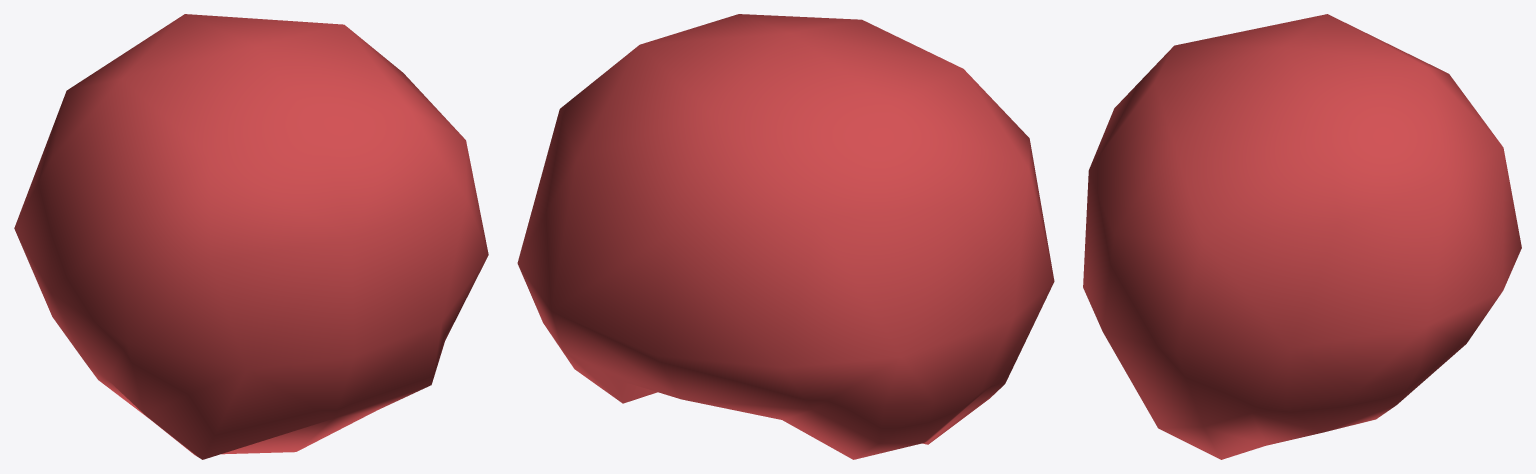
The model's file is afroC.glb.
3 views of the same model, side by side, from view 1: azimuth 30°, elevation 25°; view 2: azimuth 150°, elevation 25°; view 3: azimuth 270°, elevation 25° (orthographic). The views are drawn at different scales.
Visible parts, largest first — view 1: afroC; view 2: afroC; view 3: afroC.
Part boxes in pixels (bbox=[...]): afroC: bbox=[14, 14, 488, 459]; afroC: bbox=[517, 14, 1054, 459]; afroC: bbox=[1083, 14, 1521, 459].
Size of the model in its own units: 0.4419 by 0.3948 by 0.414.
Materials: 1 (1 with a texture image).
